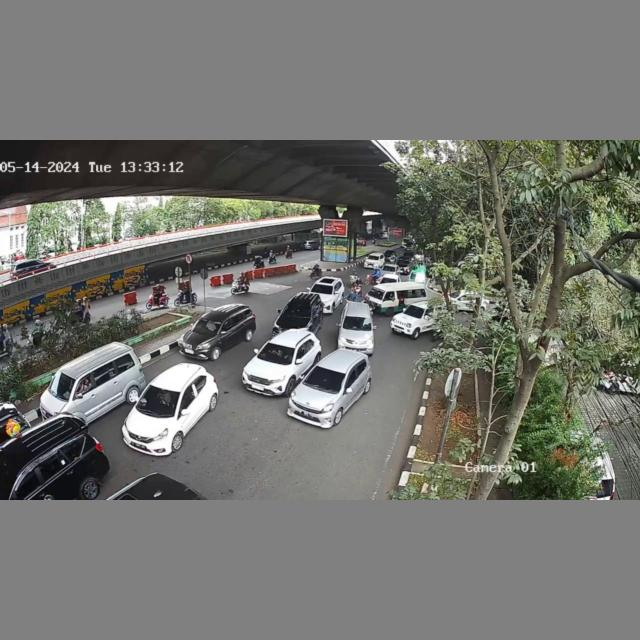windshield: (302, 364, 346, 392), (137, 385, 179, 414), (47, 369, 75, 400), (257, 343, 295, 364), (191, 317, 224, 336), (280, 303, 312, 319), (342, 316, 372, 330)
